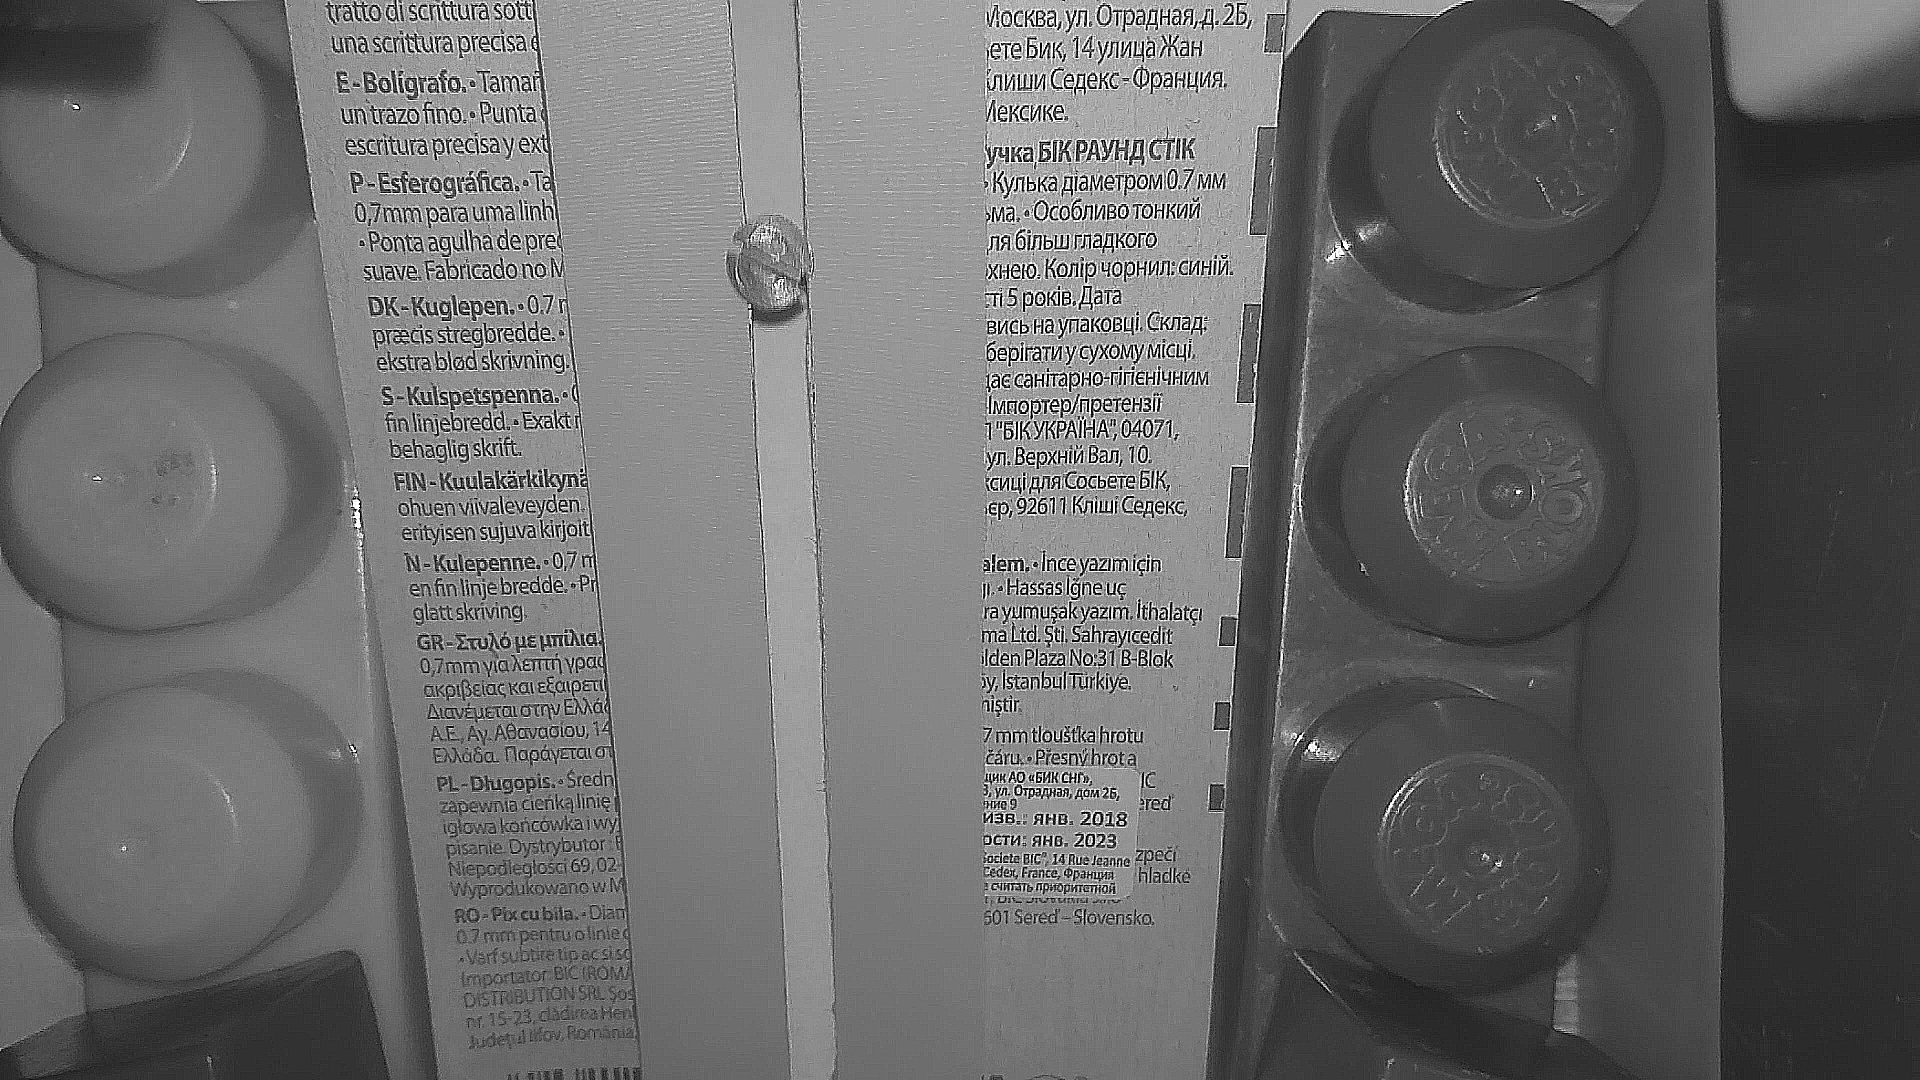i: (729, 216, 814, 309)
